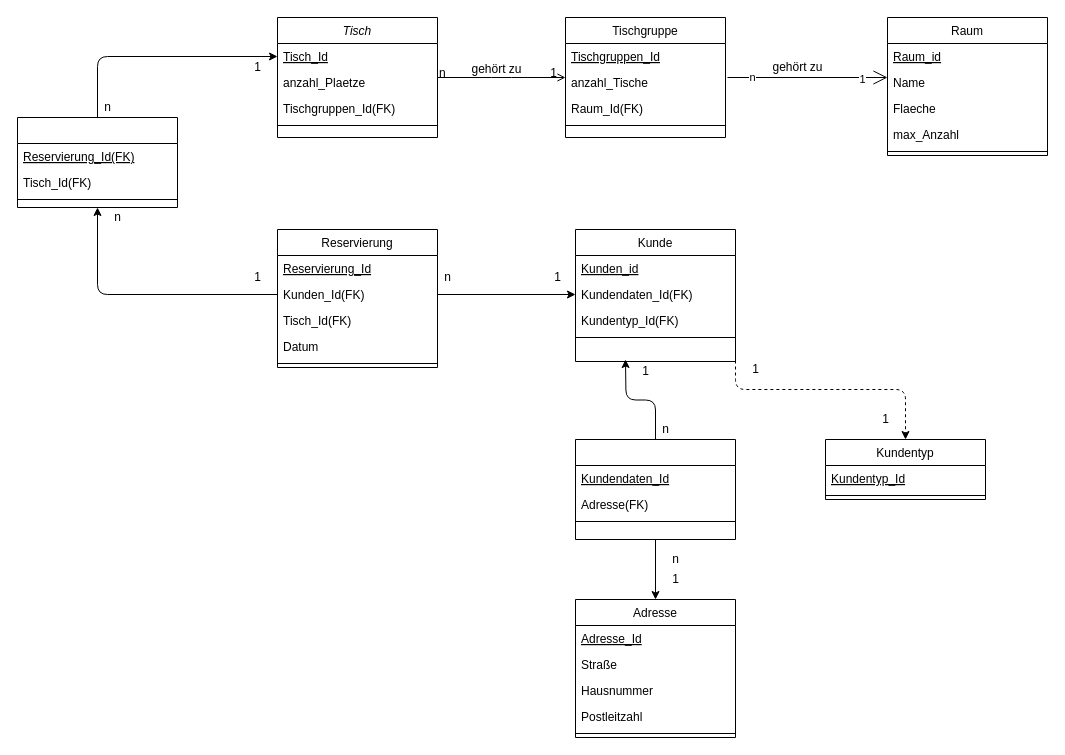
This 1065x755 diagram has some shape labels left out. Each missing label, with the box of its shape:
Kundedaten: (574, 438, 736, 540)
Tischreservierung: (16, 116, 178, 208)
